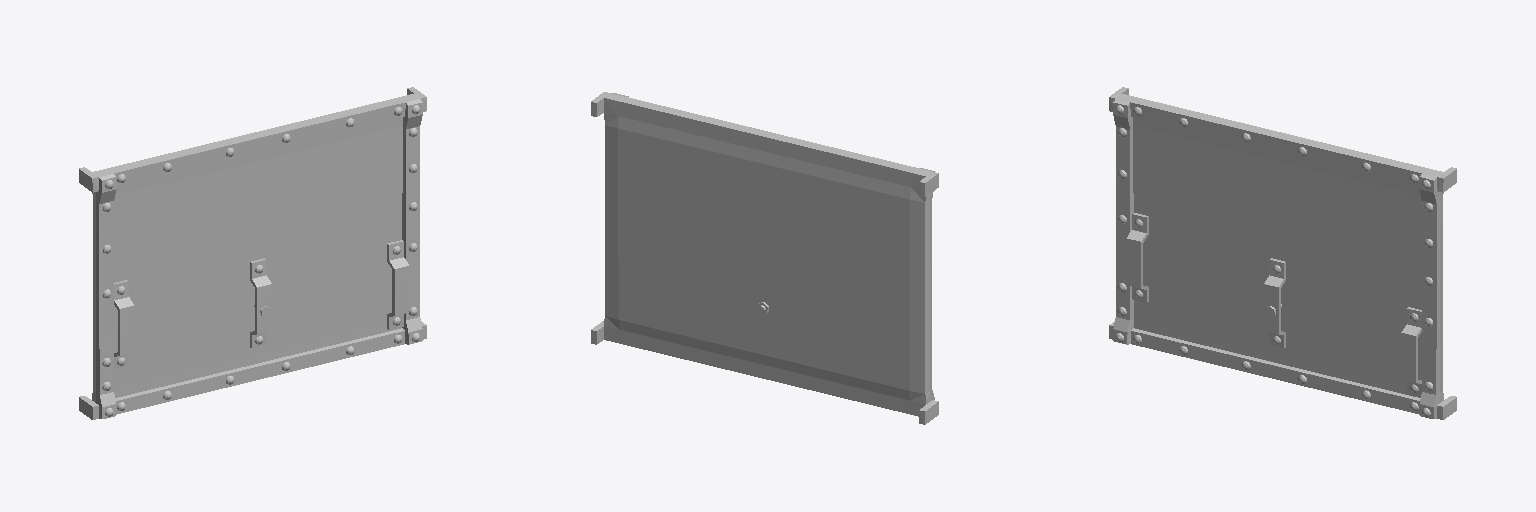
File: cartDoor.obj
3 renders of one model, left to right at view 1: azimuth 30°, elevation 25°; view 2: azimuth 150°, elevation 25°; view 3: azimuth 330°, elevation 25°, orthographic.
Parts seen in each view (by area): view 1: MineCart_Door.001_MineCart_Mat.001; view 2: MineCart_Door.001_MineCart_Mat.001; view 3: MineCart_Door.001_MineCart_Mat.001.
Part boxes in pixels (x1,y1,x2,y2): MineCart_Door.001_MineCart_Mat.001: (79, 87, 426, 419); MineCart_Door.001_MineCart_Mat.001: (591, 92, 938, 424); MineCart_Door.001_MineCart_Mat.001: (1109, 87, 1456, 419).
Size of the model in its own units: 0.0805 by 0.0557 by 0.0084.